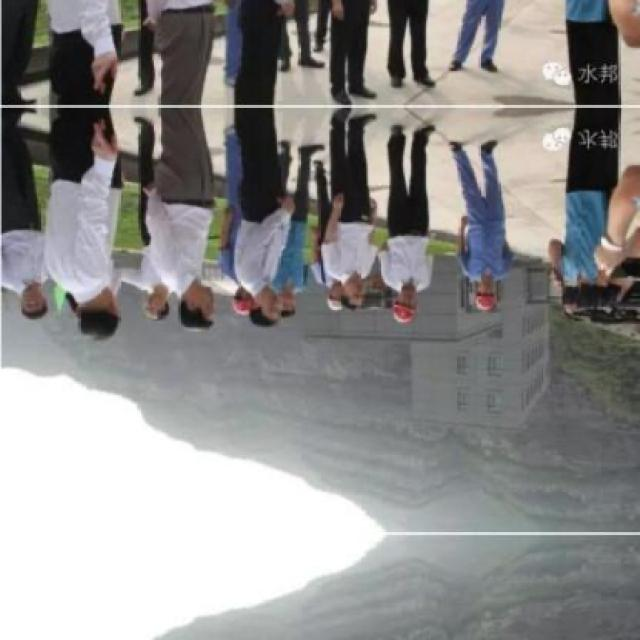con casco: (387, 283, 437, 325), (470, 285, 508, 317)
